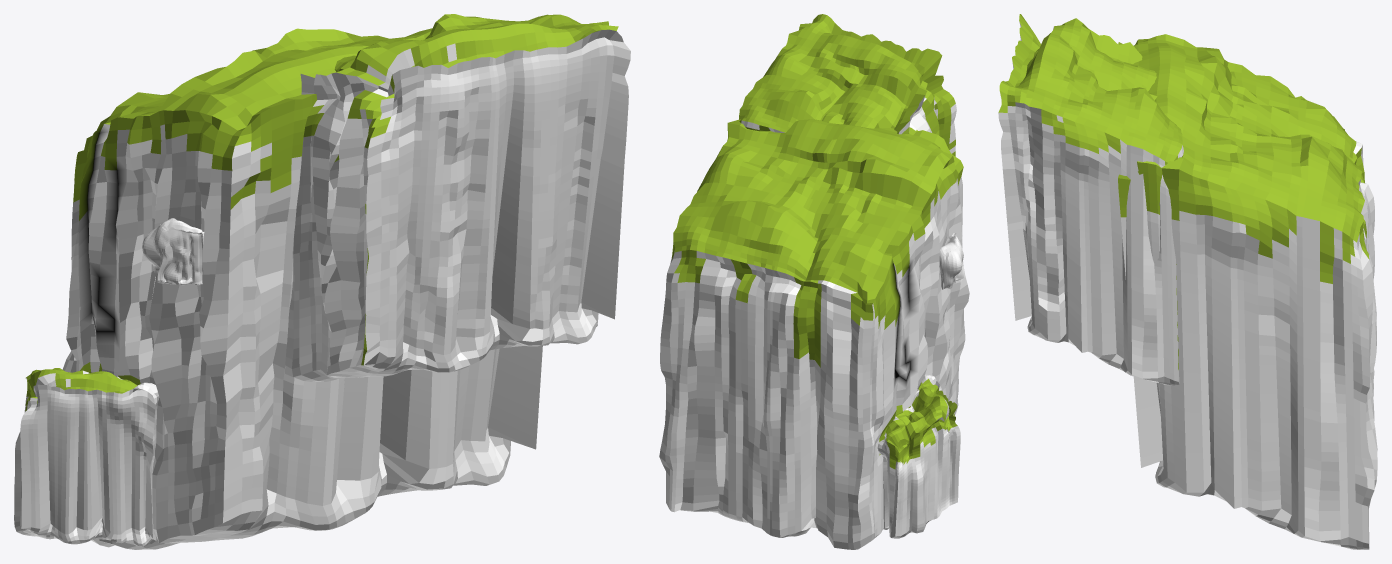
The model's file is 점프타일1.fbx.
The picture shows the model from 3 angles, left to right: view 1: azimuth 30°, elevation 25°; view 2: azimuth 150°, elevation 25°; view 3: azimuth 270°, elevation 25°; orthographic projection. The views are drawn at different scales.
Visible parts, largest first — view 1: 타일2; view 2: 타일2; view 3: 타일2.
Part boxes in pixels (<box>): 타일2: <box>14,14,630,549</box>; 타일2: <box>659,14,969,549</box>; 타일2: <box>998,14,1377,549</box>.
Bounding box in the file's own units: 351 × 470 × 344.
